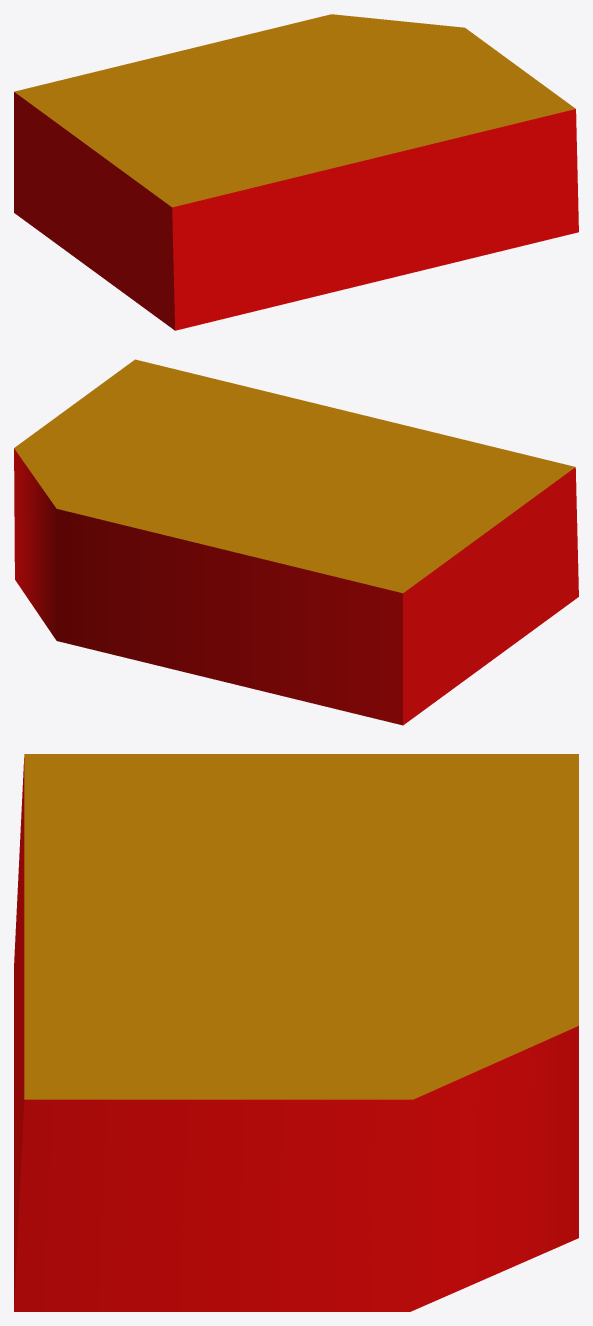
Rendered from raum_a01.dae.
3 renders of one model, top to bottom at view 1: azimuth 30°, elevation 25°; view 2: azimuth 150°, elevation 25°; view 3: azimuth 270°, elevation 25°, orthographic. The views are drawn at different scales.
Parts seen in each view (by area): view 1: Würfel; view 2: Würfel; view 3: Würfel.
Boxes of the visible parts, x1,y1,x2,y2 form: Würfel: (14,14,578,330); Würfel: (14,359,578,725); Würfel: (14,754,578,1311).
Size of the model in its own units: 698 by 200 by 482.
